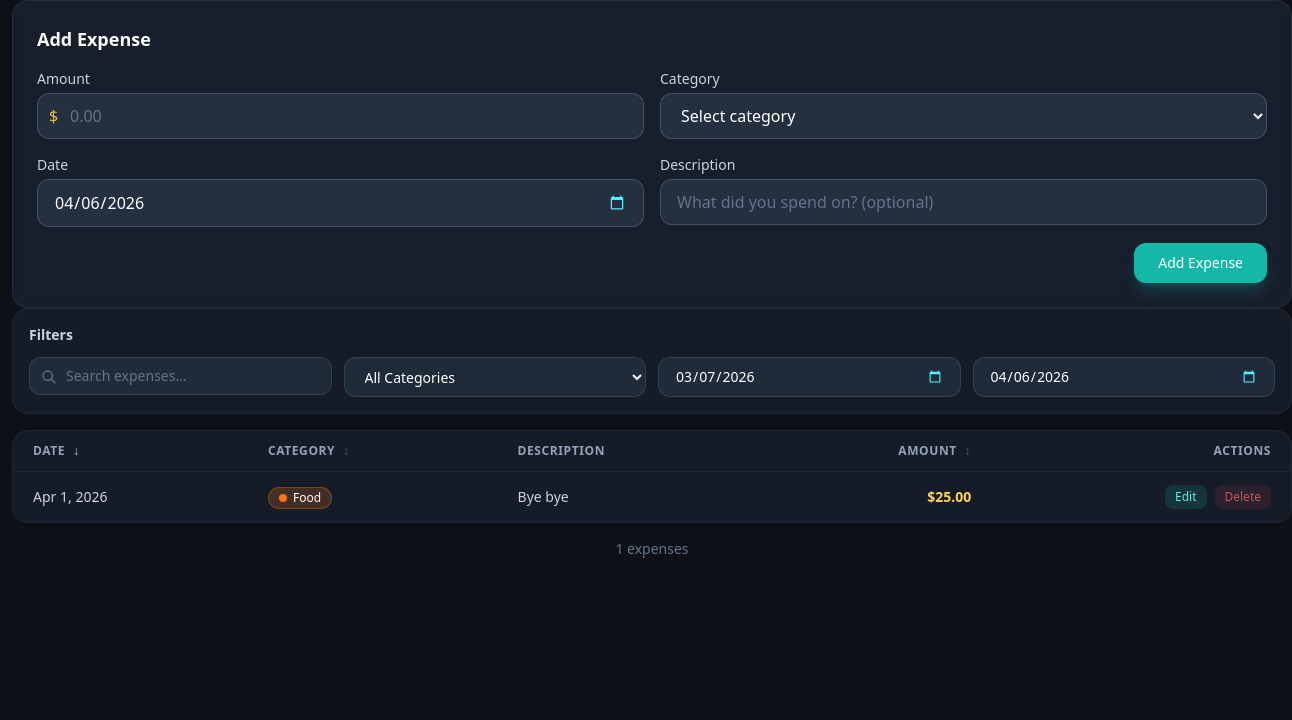
Test case: Expenses view › deleting expenses › removes the expense after confirming delete
Click the button "Delete" at (1243, 496), box 1214,484 -> 1271,508
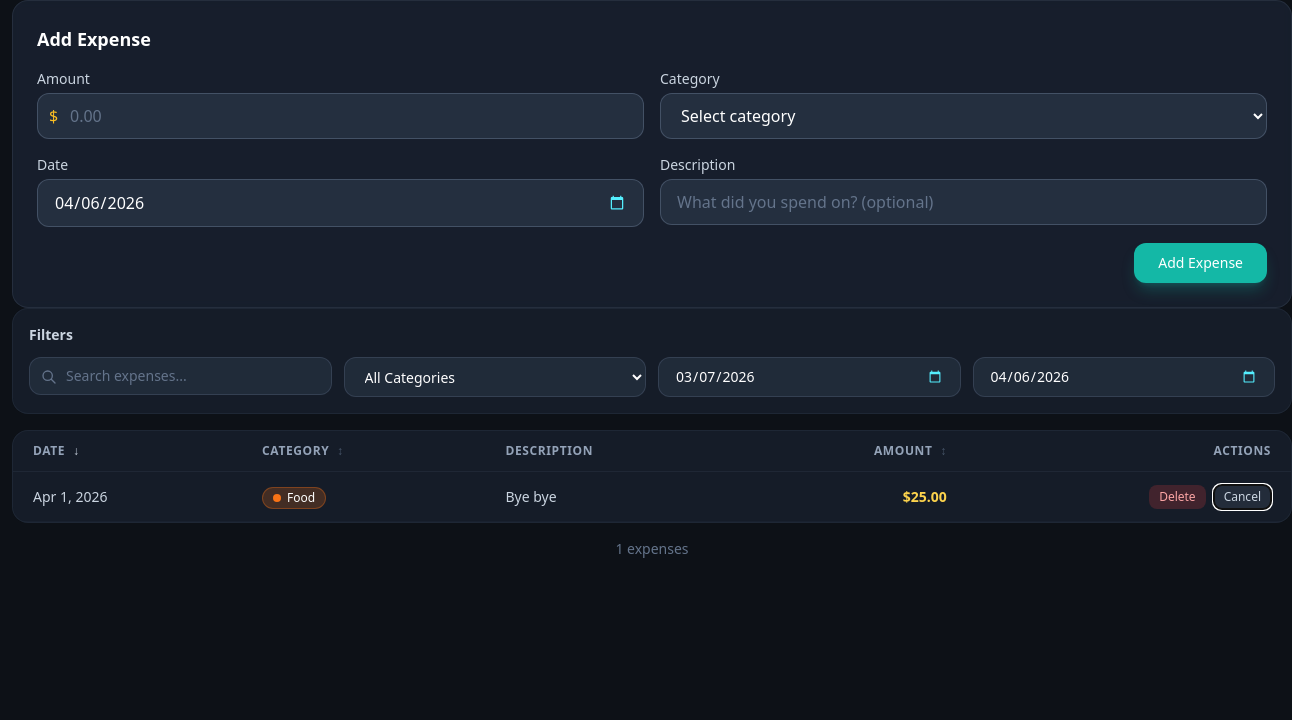
Click the button "Delete" at (1177, 496), box 1149,484 -> 1206,508
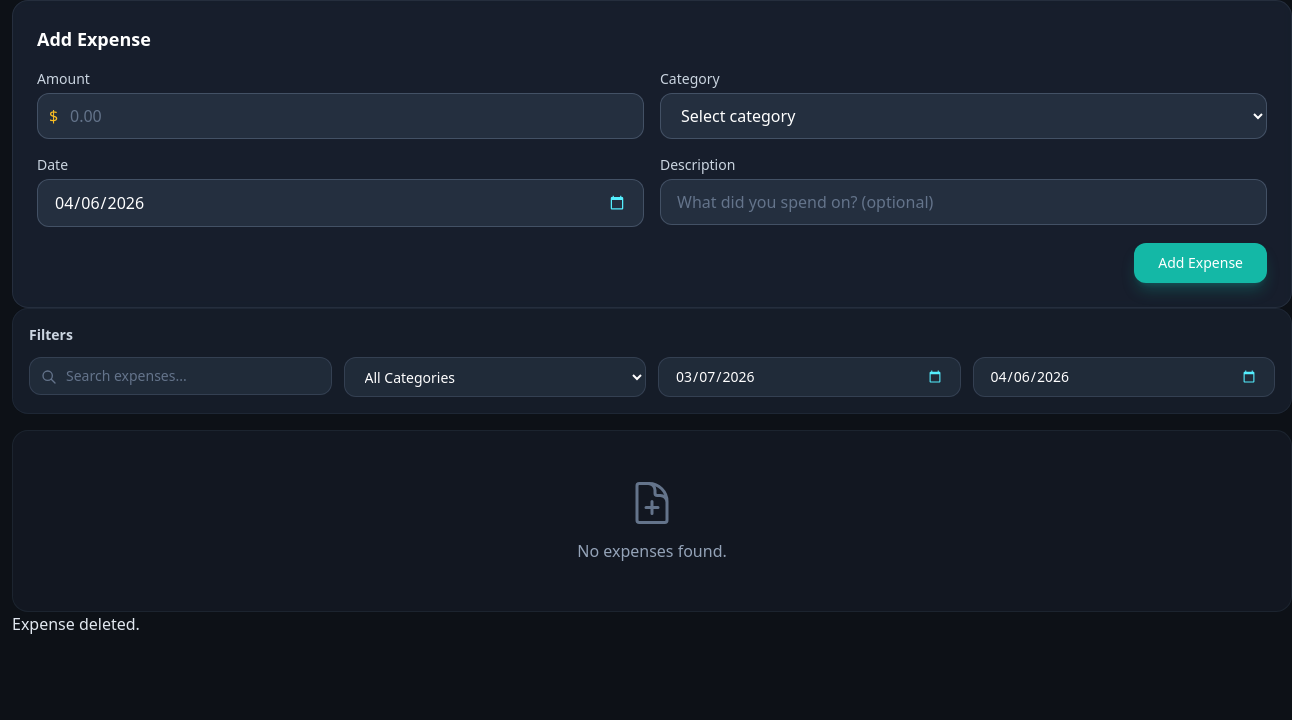
Expected: the text "No expenses found." is shown, 577,540 -> 727,562
Expected: the text with test id "toast" shows "deleted", 12,613 -> 140,635
